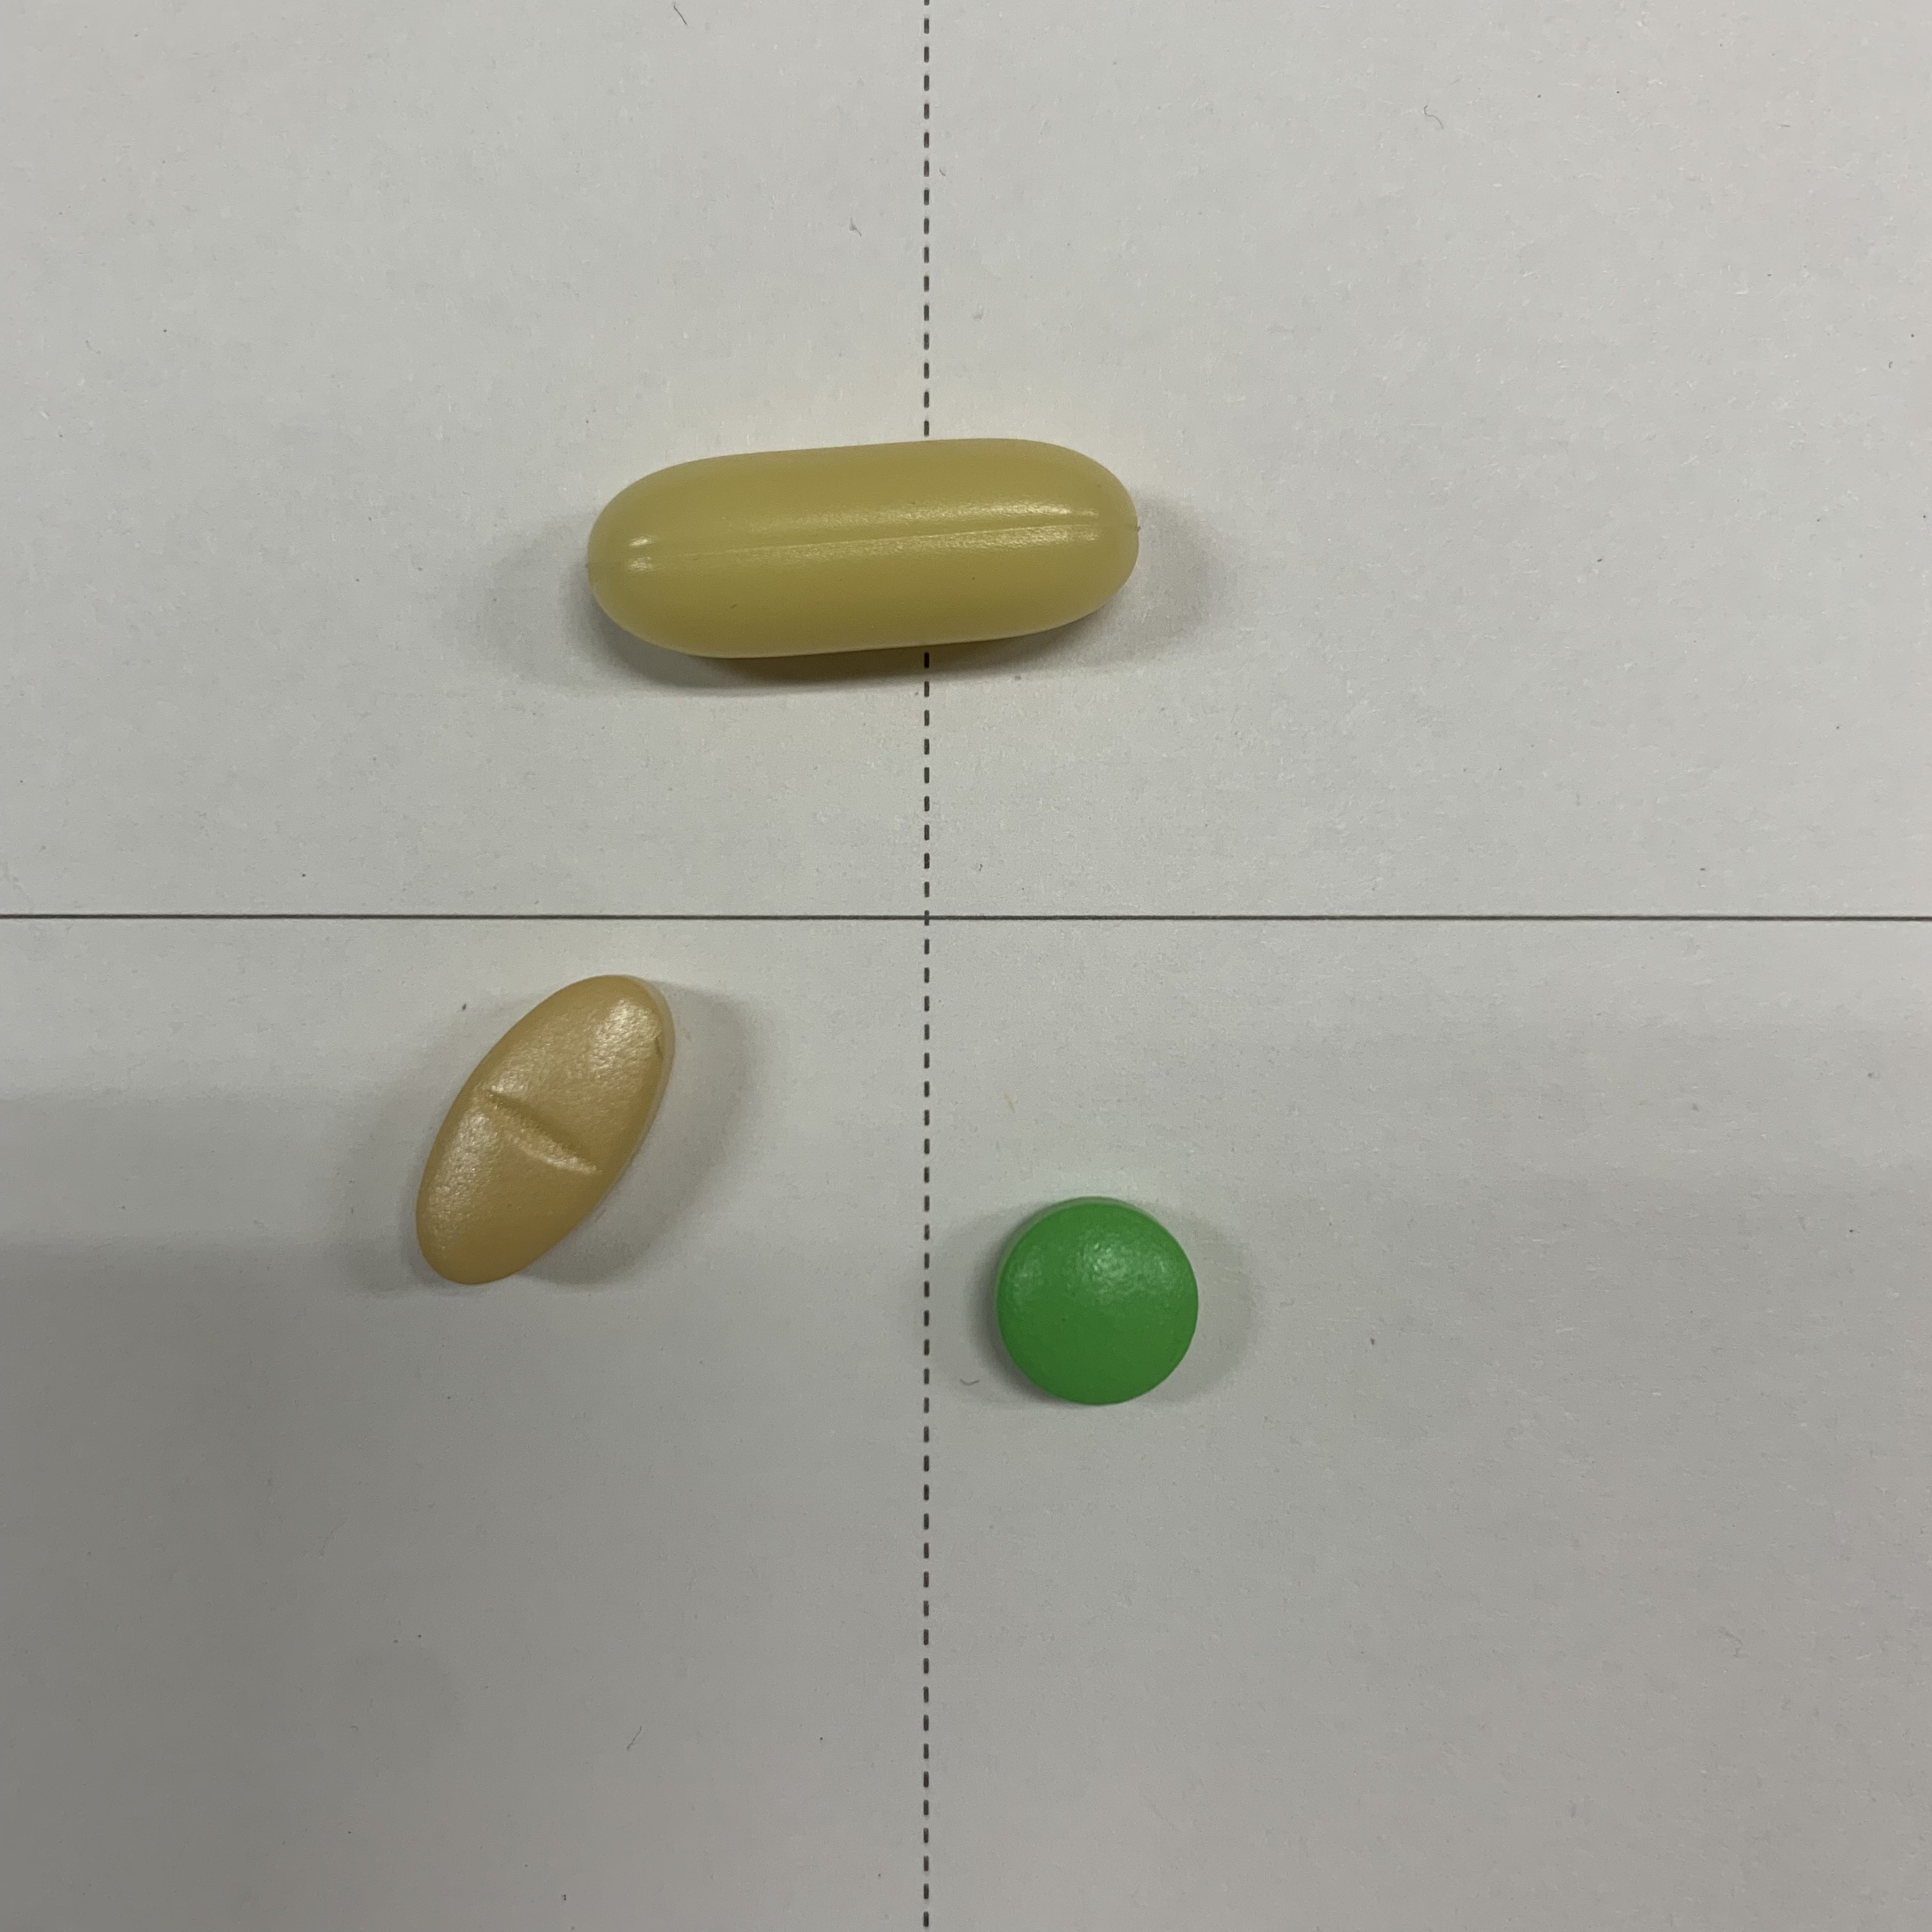cir_drug: (957, 1173, 1212, 1430)
oval_drug: (375, 964, 695, 1307)
rec_drug: (557, 435, 1221, 678)
